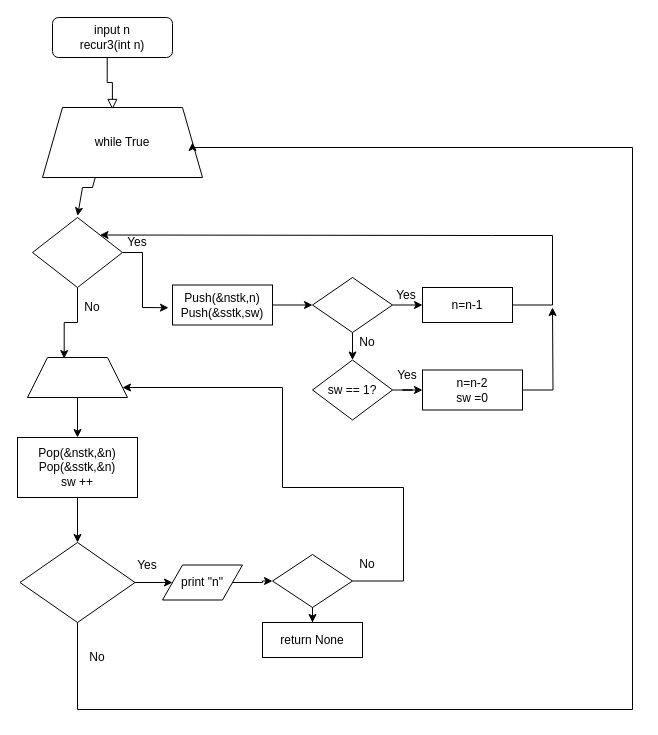
Image size: 658x735. Some labels were removed from this diagram. Each missing label, with the centre of its shape:
"n>0?" belongs at pixel 77 252.
"nstk empty?" belongs at pixel 312 581.
"sw == 2?" belongs at pixel 77 582.
"sw ==0?" belongs at pixel 352 304.
